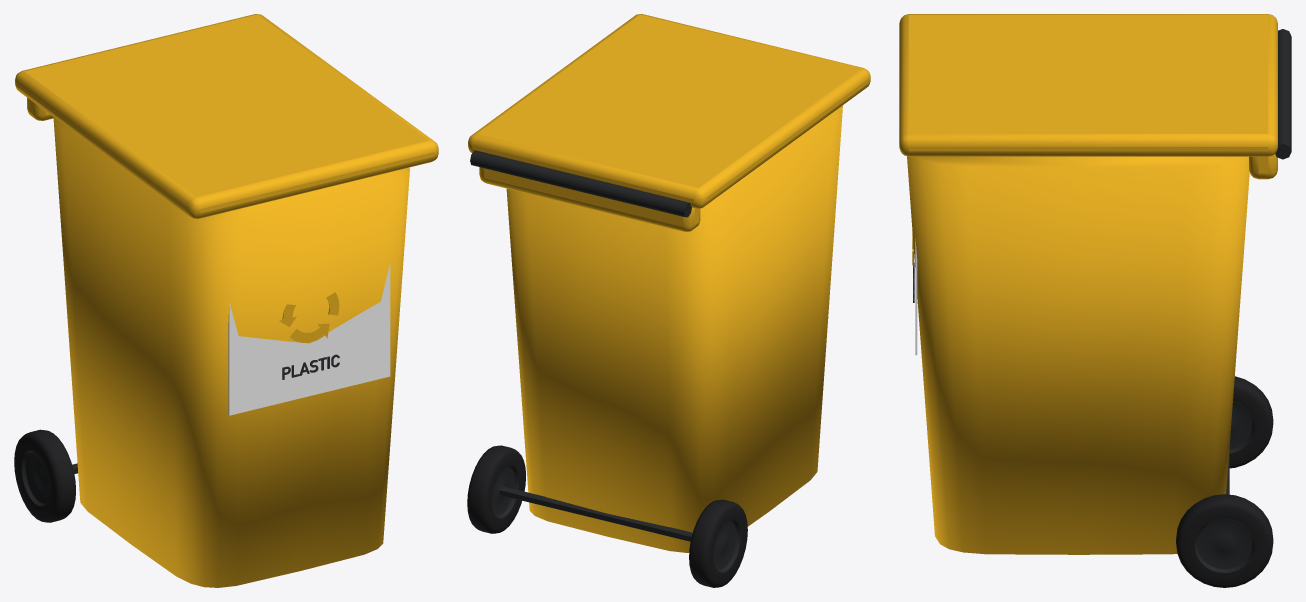
Rendered from wheelie_plastic.fbx.
3 renders of one model, left to right at view 1: azimuth 30°, elevation 25°; view 2: azimuth 150°, elevation 25°; view 3: azimuth 270°, elevation 25°, orthographic. The views are drawn at different scales.
Parts seen in each view (by area): view 1: wheelie_plastic; view 2: wheelie_plastic; view 3: wheelie_plastic.
Part boxes in pixels (left/top/right/bottom): wheelie_plastic: left=14, top=14, right=438, bottom=587; wheelie_plastic: left=467, top=14, right=870, bottom=587; wheelie_plastic: left=899, top=14, right=1291, bottom=587.
Bounding box in the file's own units: 0.63 × 1.02 × 0.808.
